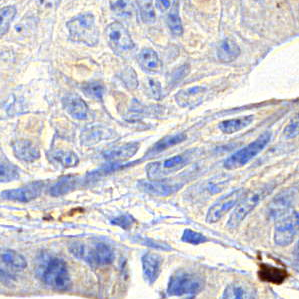Lymphocyte: (257, 261, 289, 286)
